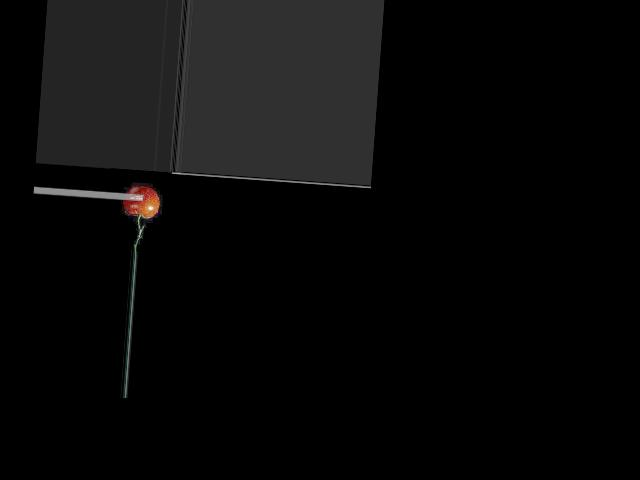tomato: (123, 186, 160, 218)
